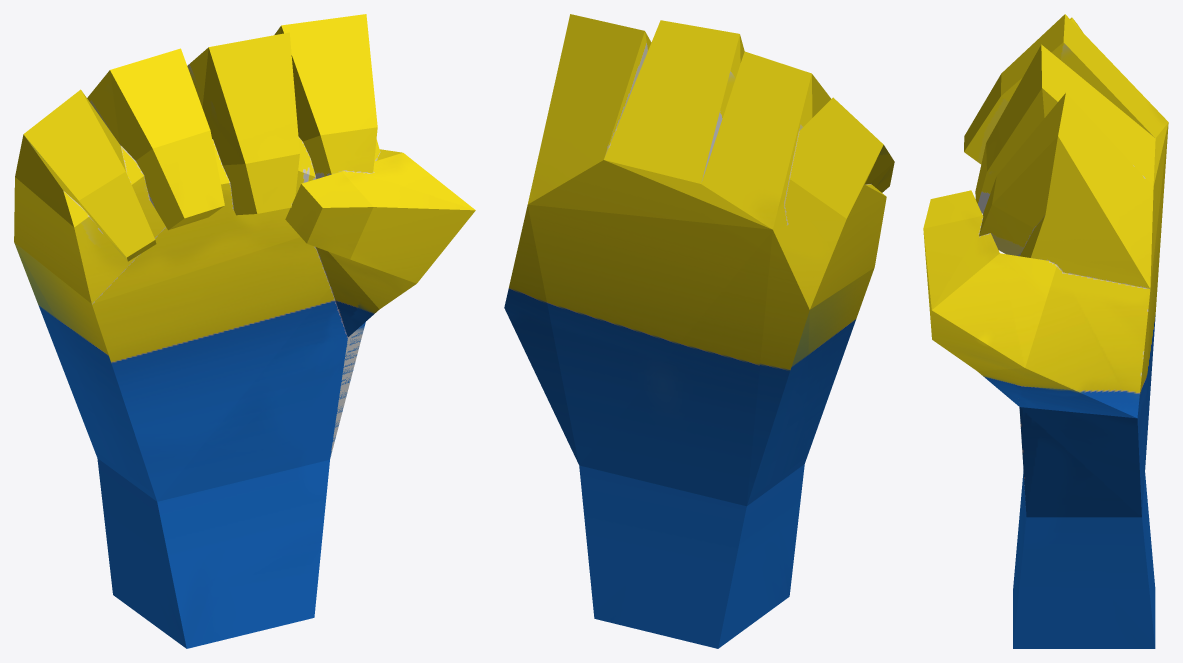
Rendered from resistance.glb.
3 renders of one model, left to right at view 1: azimuth 30°, elevation 25°; view 2: azimuth 150°, elevation 25°; view 3: azimuth 270°, elevation 25°, orthographic. The views are drawn at different scales.
Parts seen in each view (by area): view 1: hand; view 2: hand; view 3: hand.
Boxes of the visible parts, box(x1,y1,x2,y2) form: hand: box(14, 14, 475, 648); hand: box(504, 14, 894, 648); hand: box(923, 14, 1168, 648).
Size of the model in its own units: 1.23 by 1.77 by 0.6994.
1 material, 1 textured.
